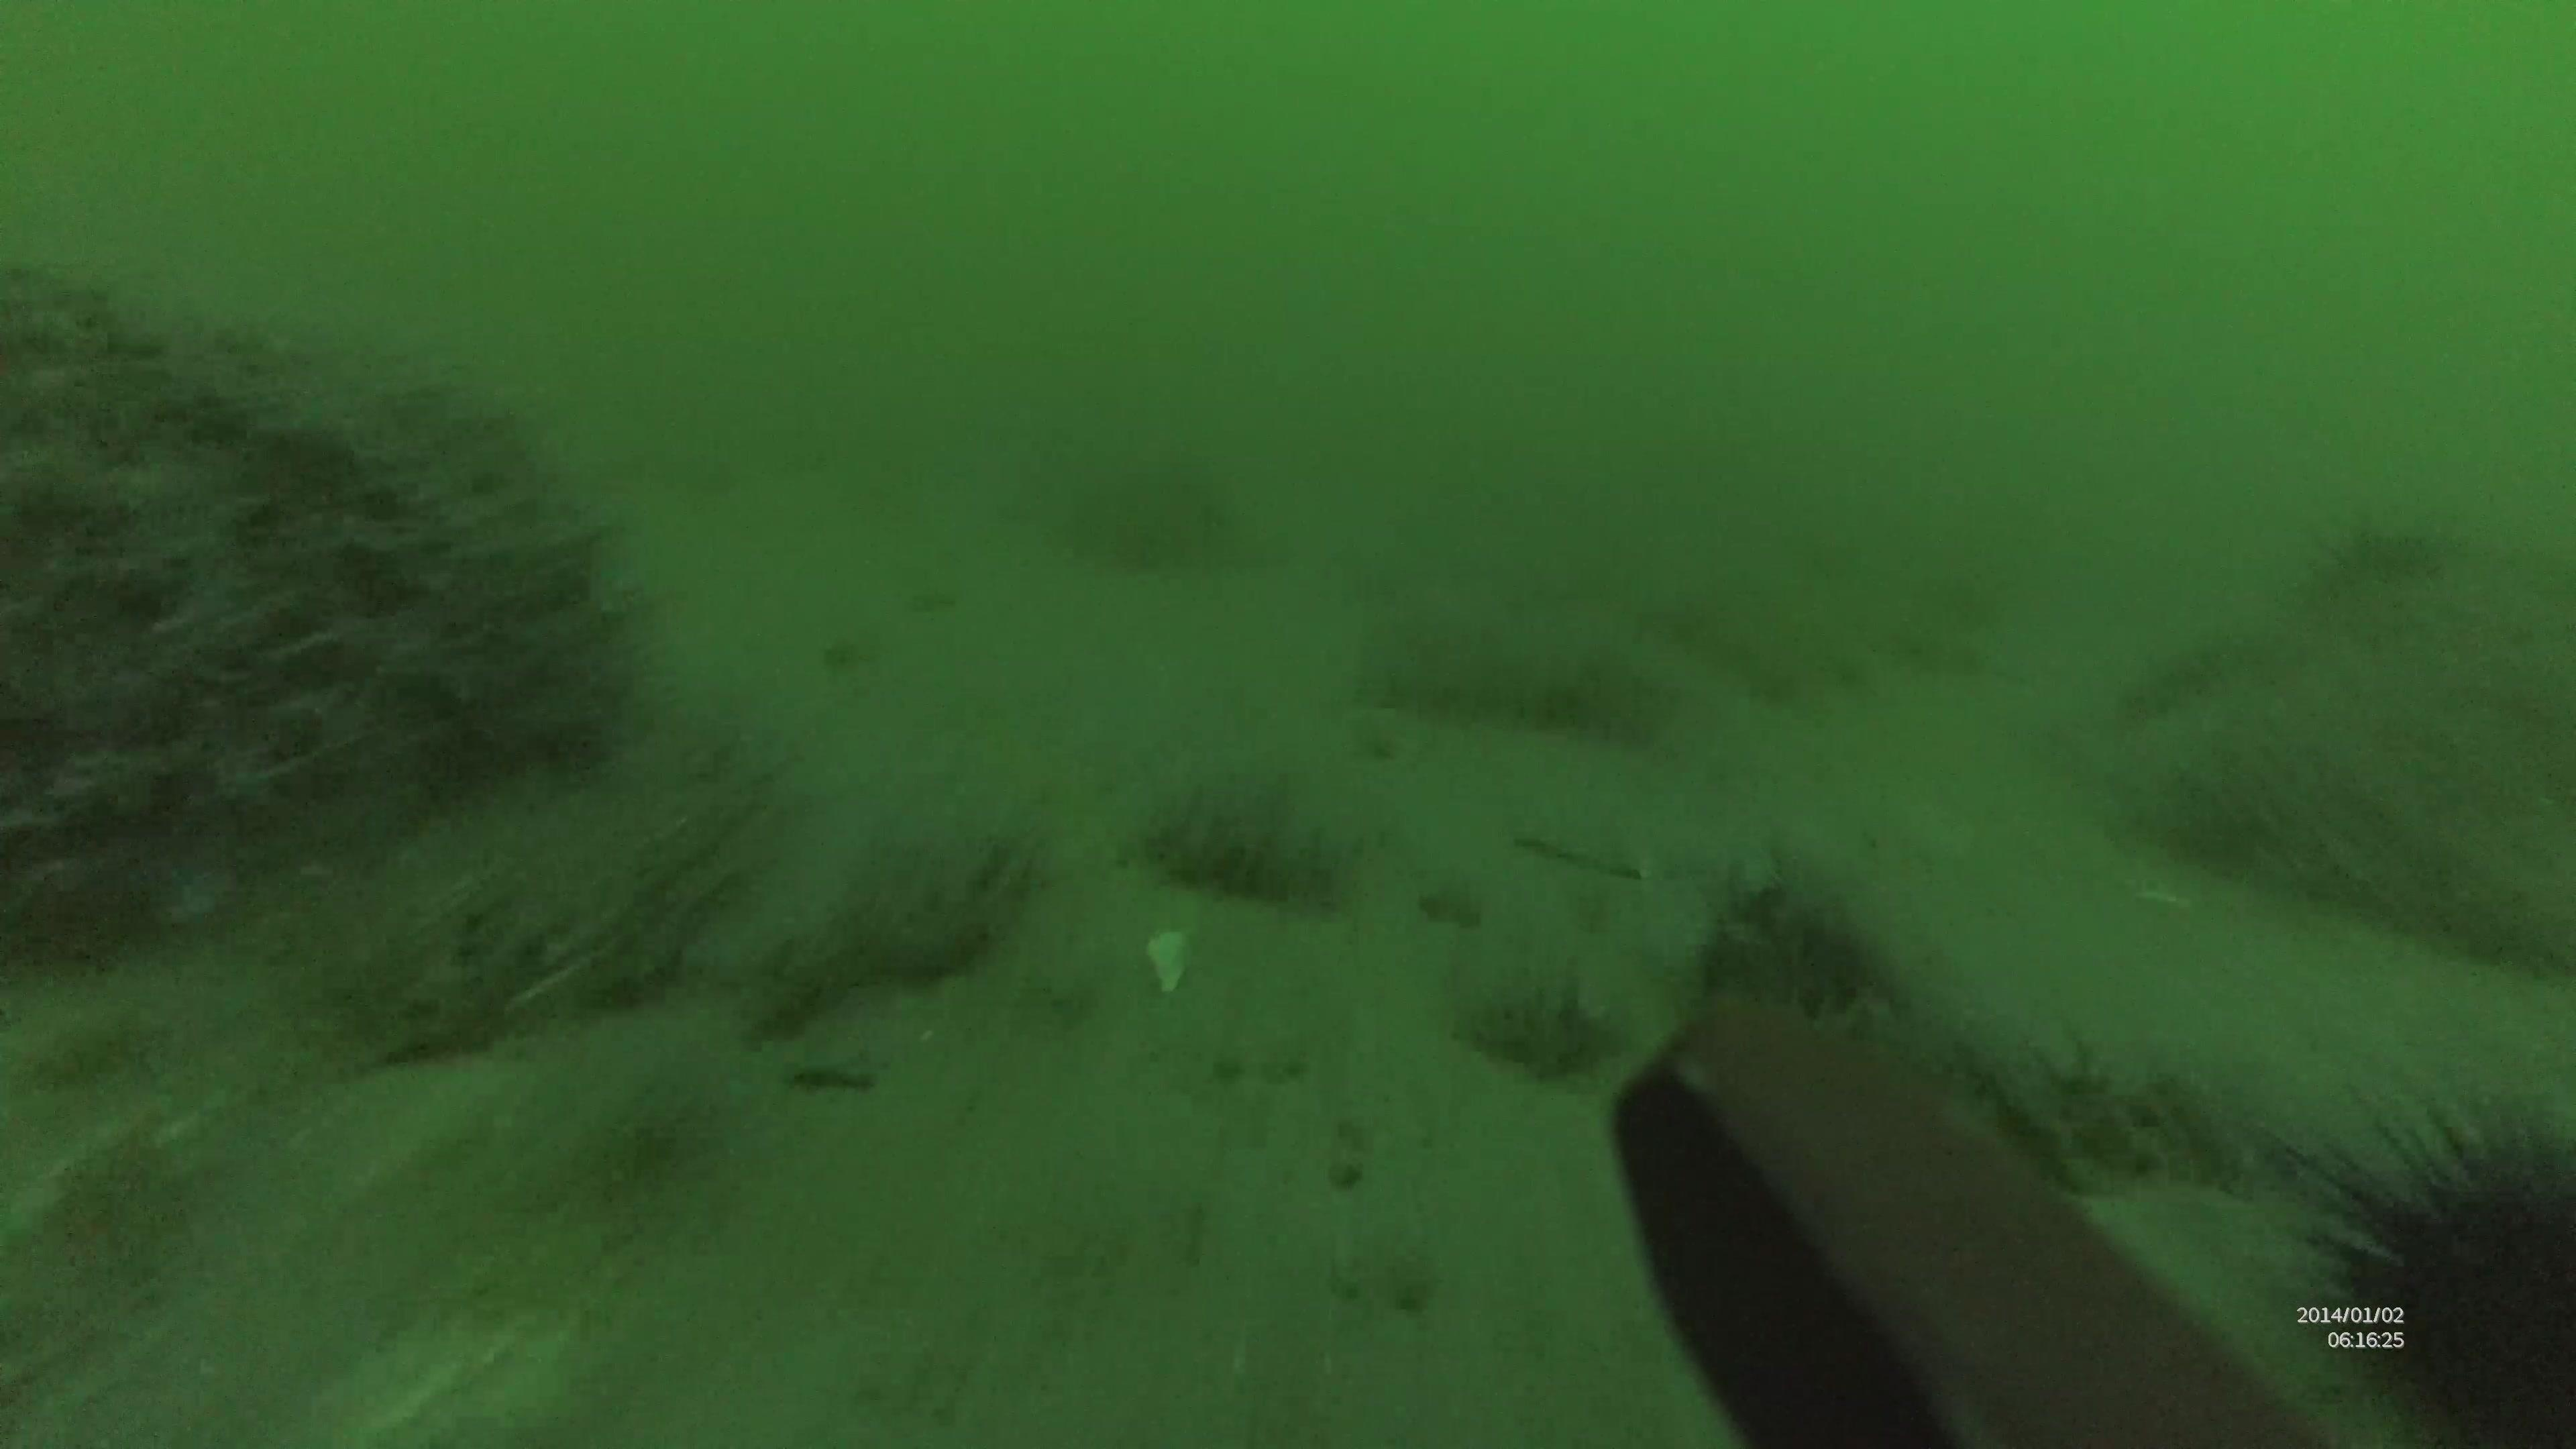echinus: (2282, 1083, 2576, 1445)
